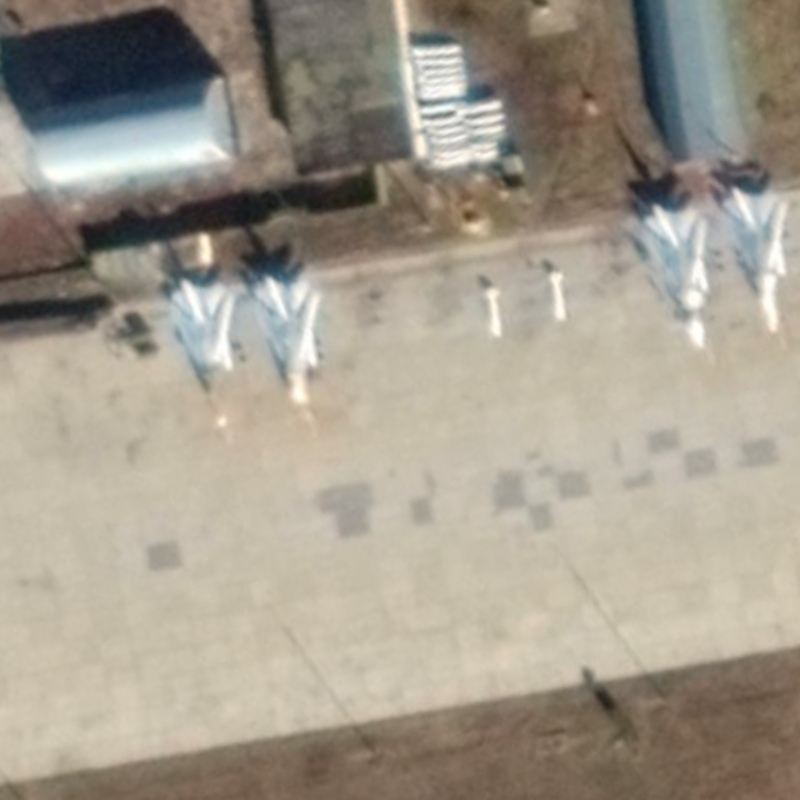A20: (609, 194, 721, 356), (712, 172, 799, 339), (243, 262, 331, 415), (157, 268, 238, 414)
